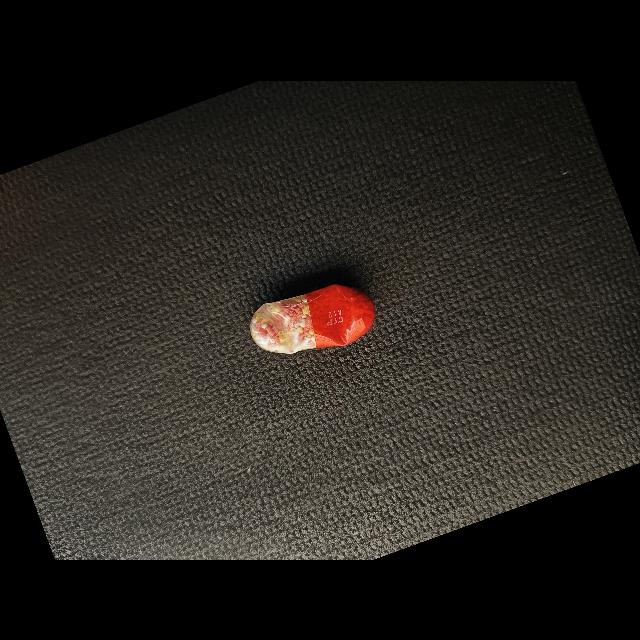Defective Capsule: (250, 284, 376, 353)
